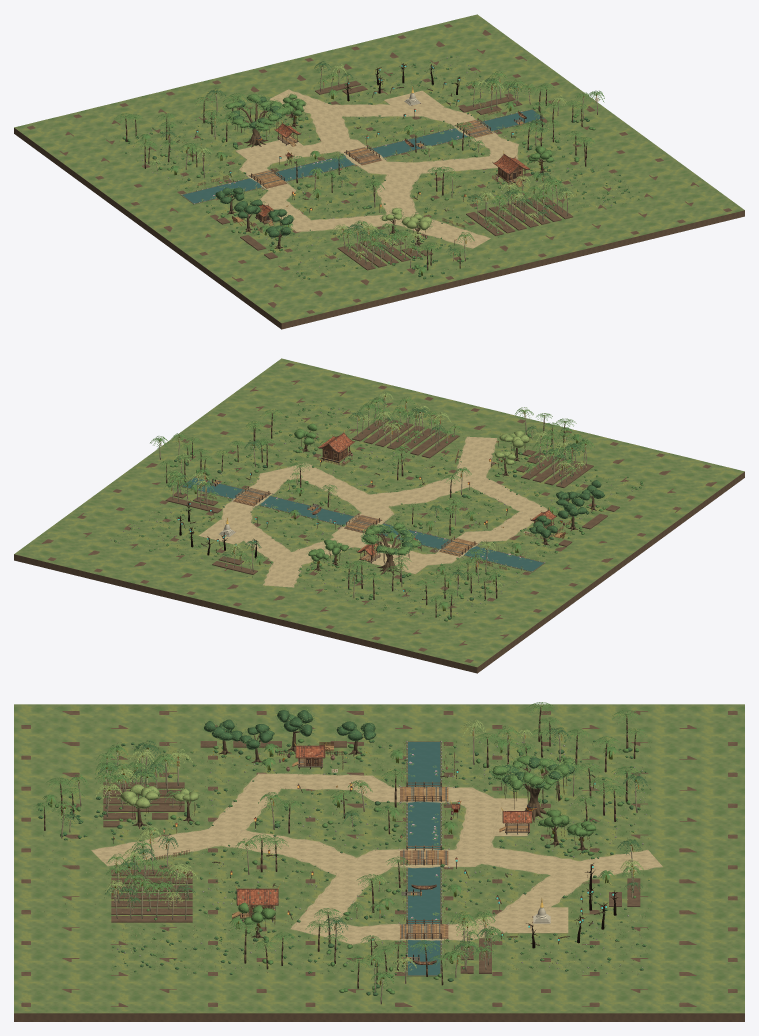
The model's file is old-orchard.glb.
The picture shows the model from 3 angles, top to bottom: view 1: azimuth 30°, elevation 25°; view 2: azimuth 150°, elevation 25°; view 3: azimuth 270°, elevation 25°; orthographic projection. The views are drawn at different scales.
Visible parts, largest first — view 1: Ground - varied meadow | grass, Tracks - worn earth | path, Soil foundation | earth, Raised orchard beds | earth, Feathered road shoulders | path_edge, Water surface | water, Palm feather leaflets | leaf2, Areca slender trunks | arecatrunk2, Organic understory shrubs | leaf4, Areca pinnate fronds | leaf2, Organic understory shrubs | leaf, Areca pinnate fronds | leaf4 (+16 smaller); view 2: Ground - varied meadow | grass, Tracks - worn earth | path, Soil foundation | earth, Raised orchard beds | earth, Feathered road shoulders | path_edge, Water surface | water, Palm feather leaflets | leaf2, Areca slender trunks | arecatrunk2, Organic understory shrubs | leaf2, Organic understory shrubs | leaf4, Areca pinnate fronds | leaf2, Palm feather leaflets | leaf4 (+13 smaller); view 3: Ground - varied meadow | grass, Tracks - worn earth | path, Soil foundation | earth, Raised orchard beds | earth, Water surface | water, Feathered road shoulders | path_edge, Palm feather leaflets | leaf2, Organic understory shrubs | leaf, Areca slender trunks | arecatrunk2, Areca pinnate fronds | leaf2, Areca pinnate fronds | leaf3, Palm feather leaflets | leaf4 (+29 smaller).
Boxes of the visible parts, x1,y1,x2,y2 form: Ground - varied meadow | grass: (14, 14, 744, 323); Tracks - worn earth | path: (242, 90, 516, 247); Soil foundation | earth: (14, 24, 744, 329); Raised orchard beds | earth: (216, 80, 573, 270); Feathered road shoulders | path_edge: (239, 89, 518, 248); Water surface | water: (182, 109, 543, 203); Palm feather leaflets | leaf2: (114, 79, 595, 256); Areca slender trunks | arecatrunk2: (156, 66, 597, 267); Organic understory shrubs | leaf4: (122, 56, 638, 279); Areca pinnate fronds | leaf2: (179, 70, 590, 251); Organic understory shrubs | leaf: (125, 55, 639, 279); Areca pinnate fronds | leaf4: (326, 72, 604, 254); Ground - varied meadow | grass: (14, 358, 744, 667); Tracks - worn earth | path: (224, 437, 546, 587); Soil foundation | earth: (14, 363, 744, 673); Raised orchard beds | earth: (165, 417, 619, 574); Feathered road shoulders | path_edge: (221, 436, 547, 587); Water surface | water: (183, 477, 543, 571); Palm feather leaflets | leaf2: (159, 409, 578, 603); Areca slender trunks | arecatrunk2: (159, 397, 586, 598); Organic understory shrubs | leaf2: (114, 401, 642, 617); Organic understory shrubs | leaf4: (116, 401, 643, 621); Areca pinnate fronds | leaf2: (164, 396, 591, 573); Palm feather leaflets | leaf4: (160, 410, 574, 602); Ground - varied meadow | grass: (14, 704, 744, 1013); Tracks - worn earth | path: (93, 775, 661, 942); Soil foundation | earth: (14, 711, 744, 1021); Raised orchard beds | earth: (103, 741, 640, 973); Water surface | water: (408, 742, 440, 975); Feathered road shoulders | path_edge: (91, 773, 662, 944); Palm feather leaflets | leaf2: (33, 702, 646, 968); Organic understory shrubs | leaf: (37, 740, 650, 995); Areca slender trunks | arecatrunk2: (61, 728, 637, 1004); Areca pinnate fronds | leaf2: (52, 725, 585, 967); Areca pinnate fronds | leaf3: (95, 719, 643, 973); Palm feather leaflets | leaf4: (34, 702, 646, 966).
Size of the model in its own units: 180 by 17.12 by 180.
Materials: 58 (58 with a texture image).
